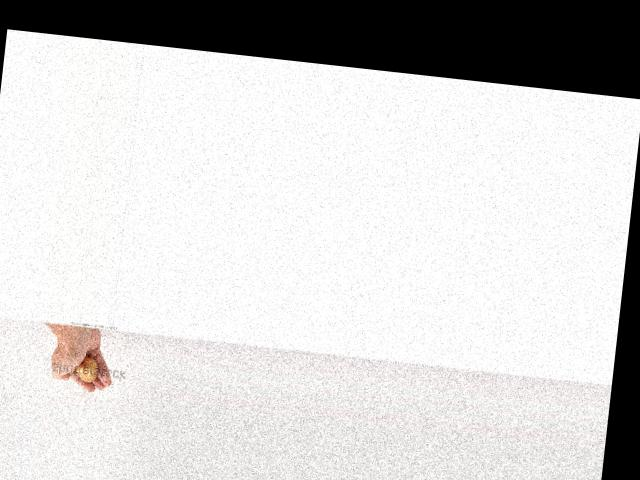egg: (75, 354, 99, 382)
